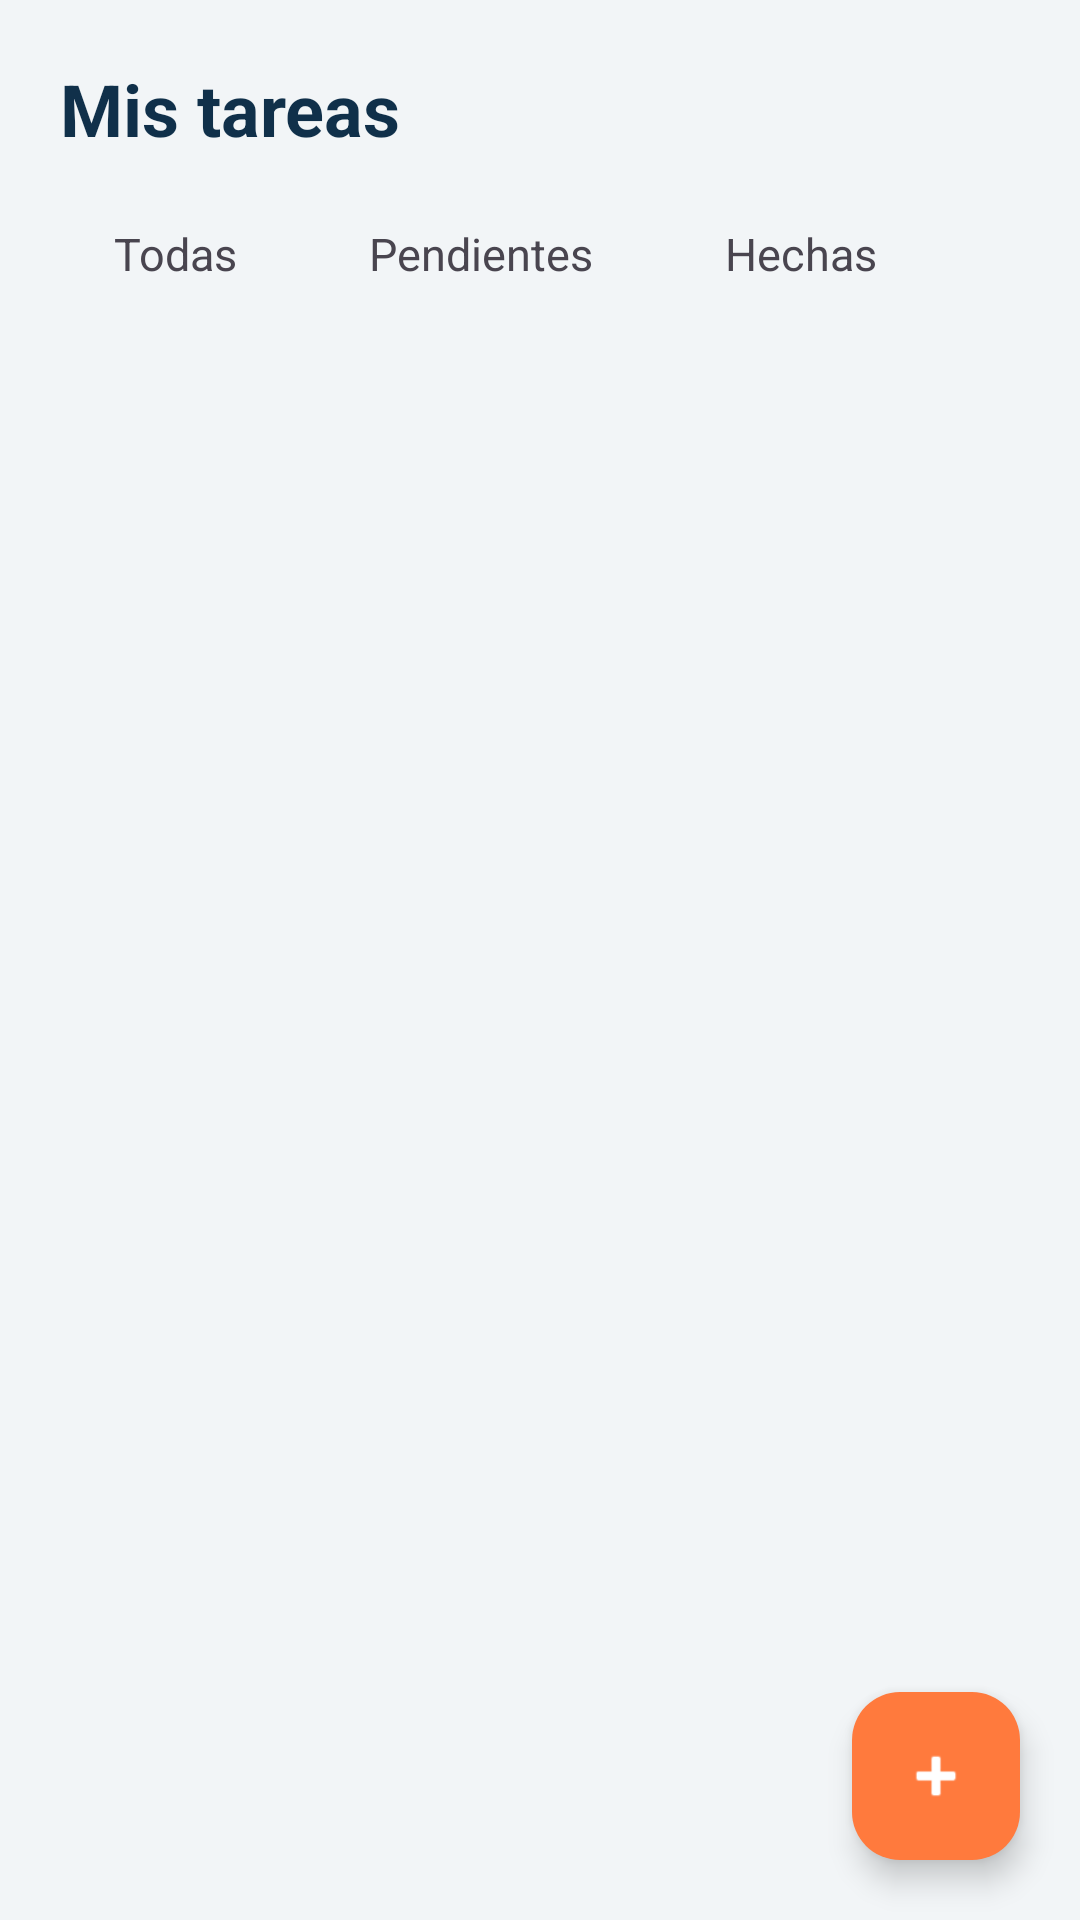

Named icons in this screenshot (1080*1920) and their bounding boxes, (x1=x1, y1=y1, x2=x2, y2=y2):
Nueva tarea: (x1=852, y1=1692, x2=1020, y2=1860)
